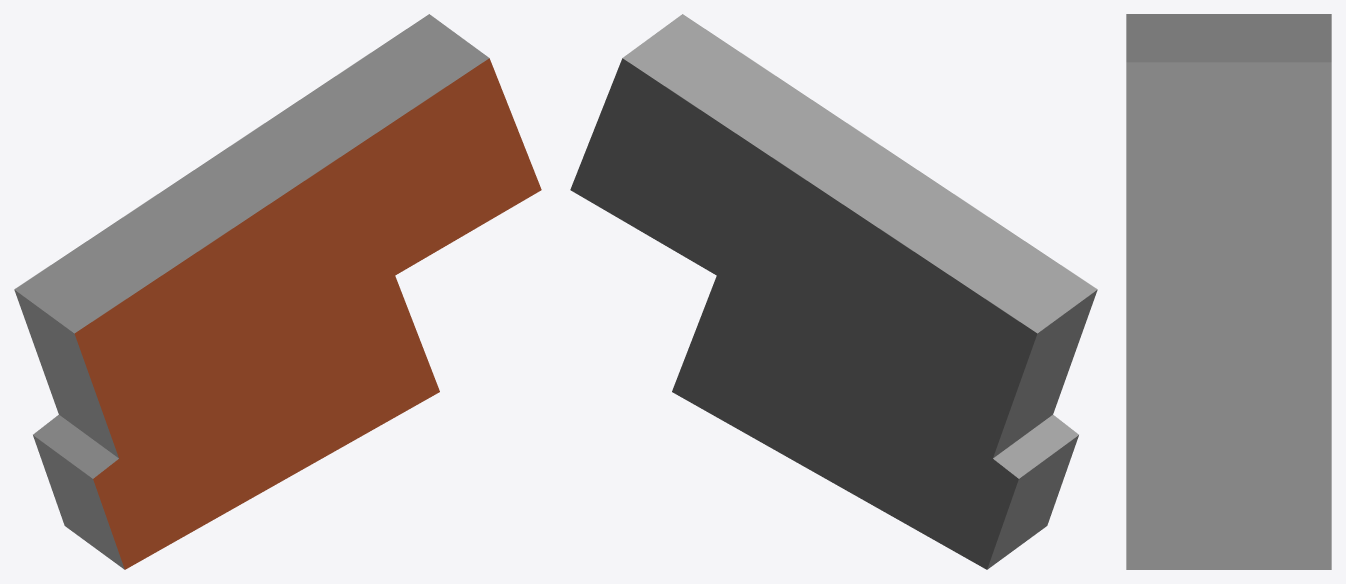
Rendered from construction_4157_assumed_A_Casa_h6m.obj.
The picture shows the model from 3 angles, left to right: view 1: azimuth 30°, elevation 25°; view 2: azimuth 150°, elevation 25°; view 3: azimuth 270°, elevation 25°; orthographic projection. The views are drawn at different scales.
Parts seen in each view (by area): view 1: construction_4157_assumed_A_Casa; view 2: construction_4157_assumed_A_Casa; view 3: construction_4157_assumed_A_Casa.
Boxes of the visible parts, x1=… form: construction_4157_assumed_A_Casa: x1=14, y1=14, x2=541, y2=569; construction_4157_assumed_A_Casa: x1=570, y1=14, x2=1097, y2=569; construction_4157_assumed_A_Casa: x1=1126, y1=14, x2=1331, y2=569.
Size of the model in its own units: 26.86 by 23.23 by 6.
